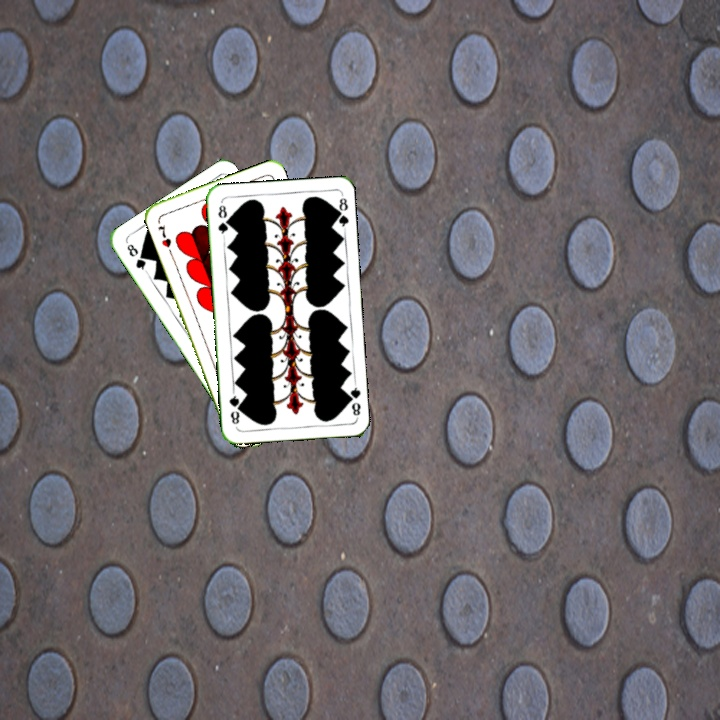G8: (123, 240, 150, 275), (343, 379, 363, 420), (214, 201, 231, 240)
H7: (154, 221, 174, 250)
